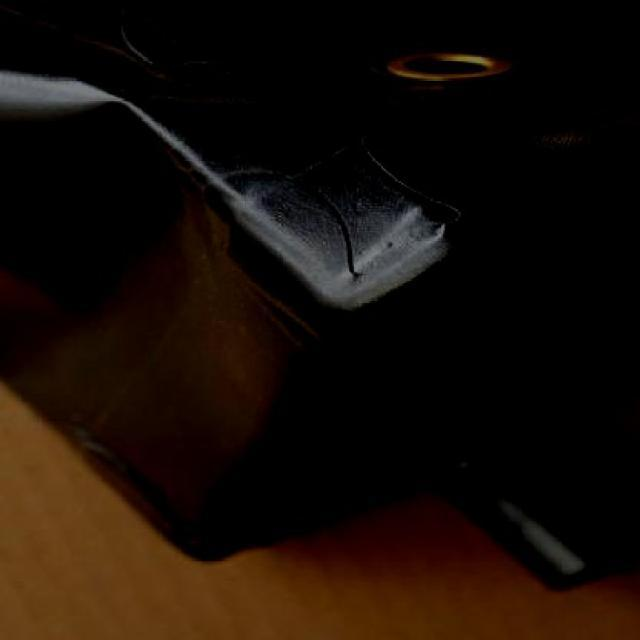crack: (301, 197, 363, 280)
